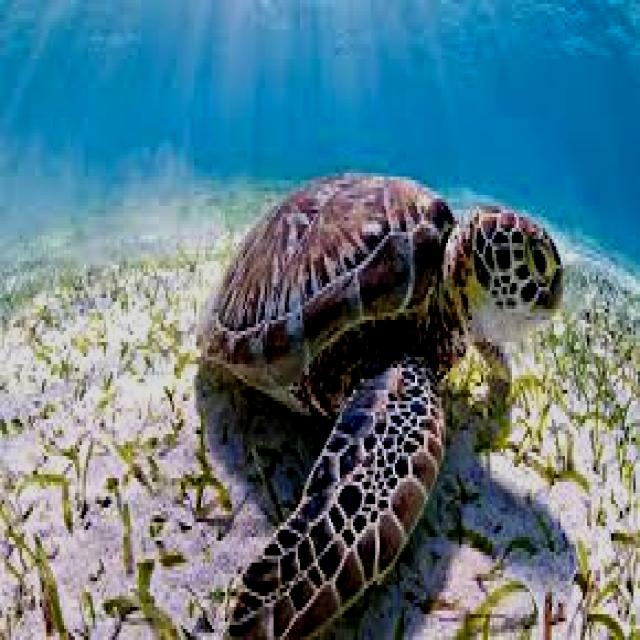Sea turtle: (180, 130, 584, 640)
